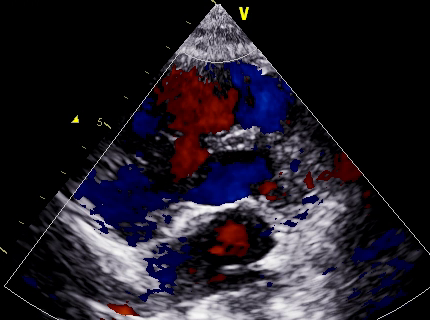TR: (106, 163, 189, 275)
